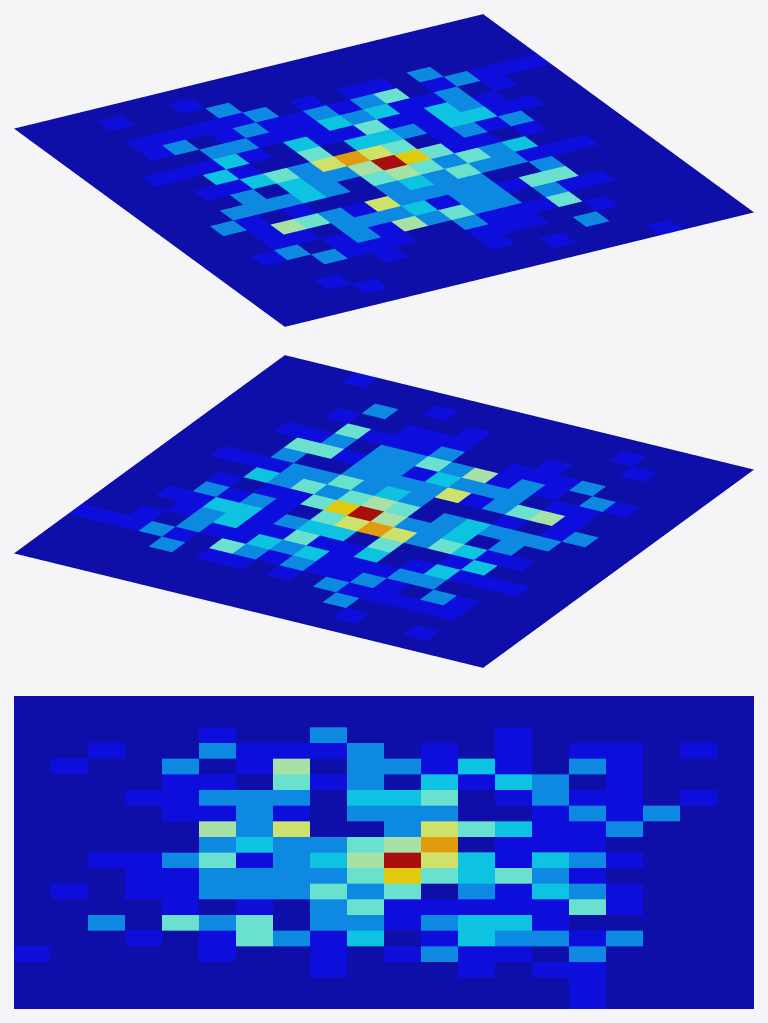
The picture shows the model from 3 angles, top to bottom: view 1: azimuth 30°, elevation 25°; view 2: azimuth 150°, elevation 25°; view 3: azimuth 270°, elevation 25°; orthographic projection. The views are drawn at different scales.
Visible parts, largest first — view 1: output5; view 2: output5; view 3: output5.
Boxes of the visible parts, <box> form: output5: <box>14,14,753,326</box>; output5: <box>14,355,753,667</box>; output5: <box>14,696,753,1008</box>.
Bounding box in the file's own units: 20 × 3.37e-06 × 20.
